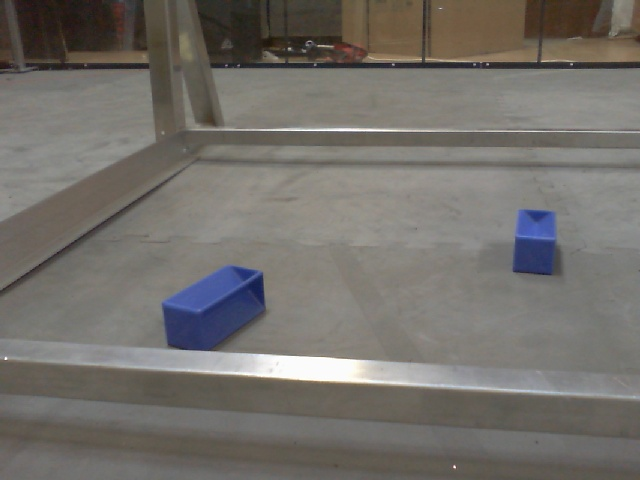BlueSample: (160, 262, 266, 351), (512, 206, 558, 277)
